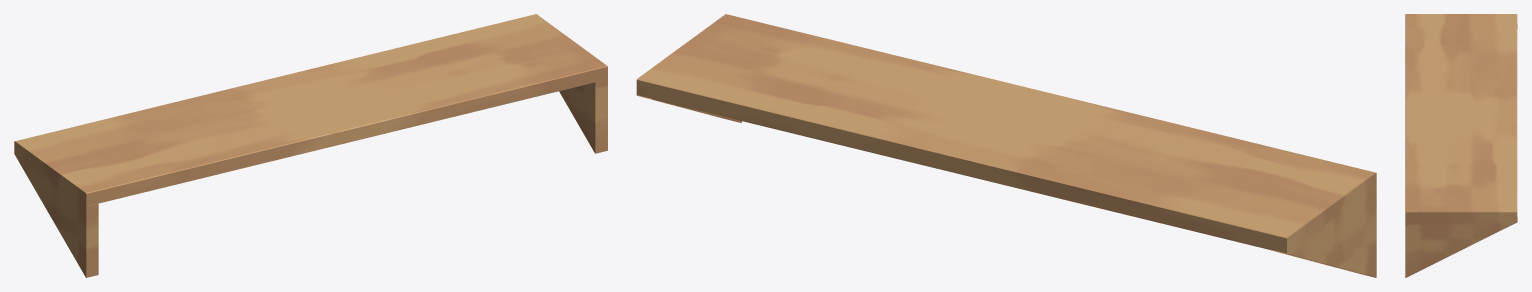
Rendered from wallshelf.fbx.
The picture shows the model from 3 angles, left to right: view 1: azimuth 30°, elevation 25°; view 2: azimuth 150°, elevation 25°; view 3: azimuth 270°, elevation 25°; orthographic projection. The views are drawn at different scales.
Visible parts, largest first — view 1: Cube.002; view 2: Cube.002; view 3: Cube.002.
Part boxes in pixels (x1,y1,x2,y2): Cube.002: [14, 14, 607, 277]; Cube.002: [636, 14, 1376, 277]; Cube.002: [1405, 14, 1517, 277].
Size of the model in its own units: 8.3 by 1.29 by 1.99.
1 material, 1 textured.
